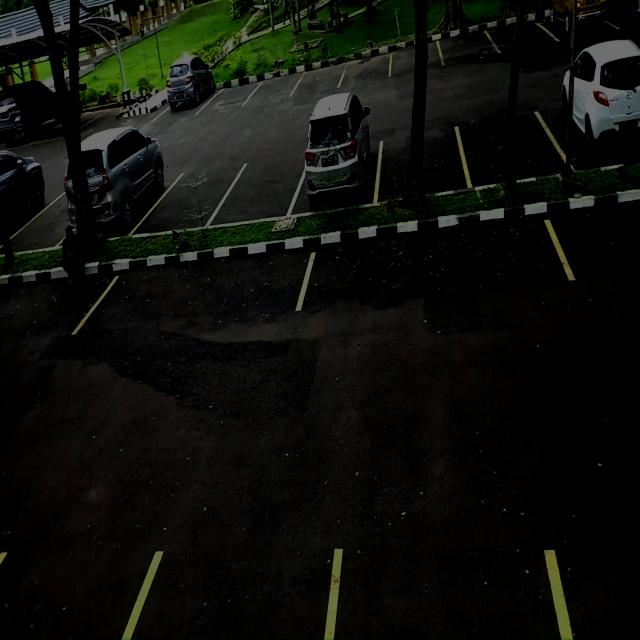empty: (299, 211, 567, 311), (333, 547, 570, 640), (74, 253, 314, 338), (128, 550, 344, 640), (2, 545, 161, 637), (463, 106, 560, 189), (376, 124, 462, 200), (224, 157, 303, 223), (154, 164, 228, 230), (17, 194, 66, 255), (440, 26, 495, 68), (494, 15, 549, 57), (390, 37, 441, 77), (342, 46, 392, 86), (297, 58, 344, 92), (253, 70, 297, 106), (210, 75, 253, 111)
occupied: (542, 33, 640, 171), (299, 115, 378, 211), (94, 142, 162, 236), (164, 63, 212, 115)
